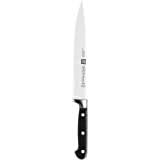knife: (71, 1, 89, 160)
